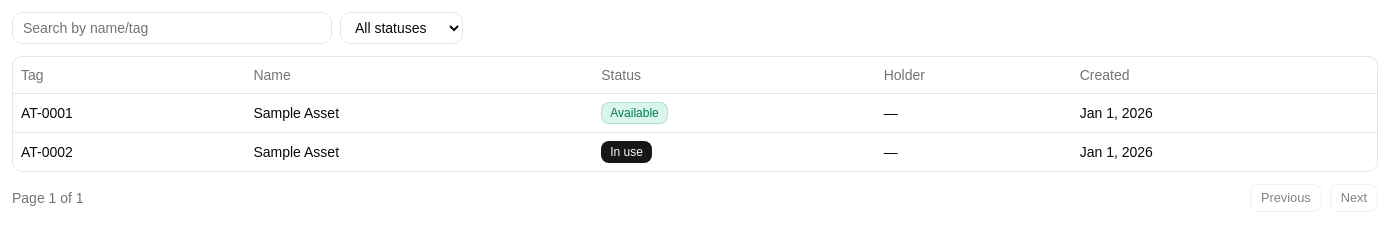
it: AssetsTable › filters by status
Select "In use" in the dropdown showing "All statuses" at (402, 28), box [340, 12, 463, 44]
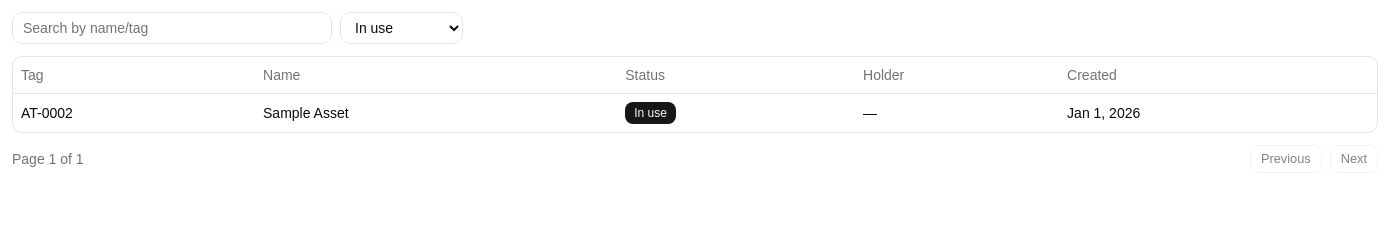
Expected: the text "AT-0002" is shown, [13, 93, 255, 132]
Expected: the text "AT-0001" is gone
